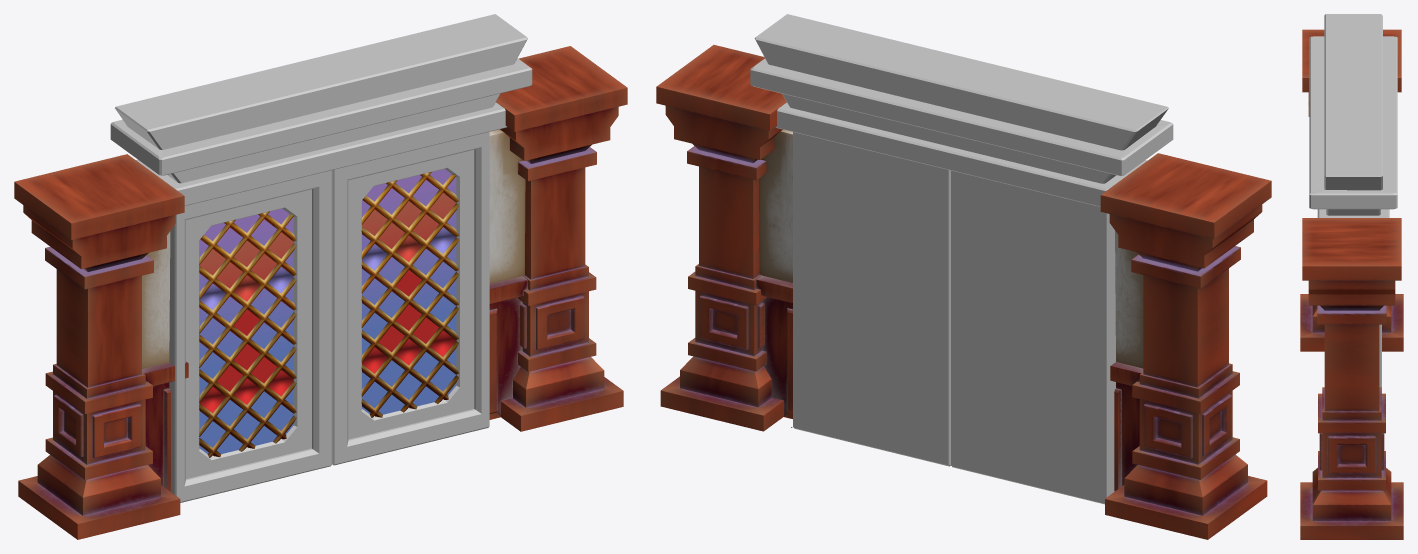
File: wall_library_door_static.fbx
3 views of the same model, side by side, from view 1: azimuth 30°, elevation 25°; view 2: azimuth 150°, elevation 25°; view 3: azimuth 270°, elevation 25° (orthographic). The views are drawn at different scales.
Parts seen in each view (by area): view 1: columne_v2.004, Plane.021, Plane.020, Plane.019, wall_v2.001; view 2: Plane.021, columne_v2.004, Plane.019, wall_v2.001; view 3: columne_v2.004, Plane.019, Plane.021.
Part boxes in pixels (left/top/right/bottom): columne_v2.004: left=14, top=46, right=627, bottom=539; Plane.021: left=169, top=132, right=489, bottom=502; Plane.020: left=199, top=169, right=458, bottom=457; Plane.019: left=110, top=14, right=532, bottom=205; wall_v2.001: left=142, top=129, right=527, bottom=491; Plane.021: left=791, top=132, right=1115, bottom=504; columne_v2.004: left=656, top=45, right=1271, bottom=539; Plane.019: left=750, top=14, right=1173, bottom=206; wall_v2.001: left=756, top=129, right=1143, bottom=491; columne_v2.004: left=1300, top=29, right=1403, bottom=539; Plane.019: left=1309, top=14, right=1397, bottom=217; Plane.021: left=1379, top=324, right=1381, bottom=393.
Size of the model in its own units: 1314 by 860 by 243.
